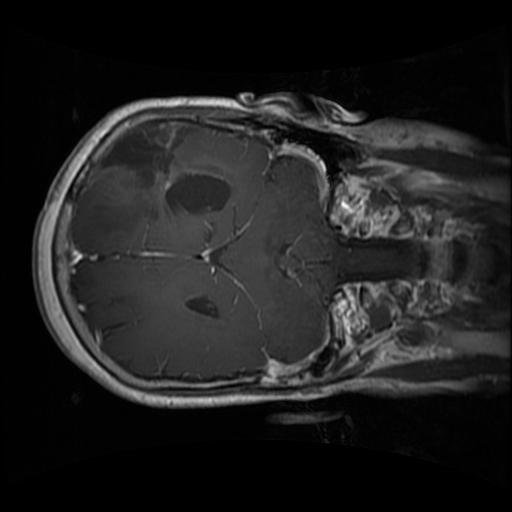glioma: (82, 115, 233, 219)
